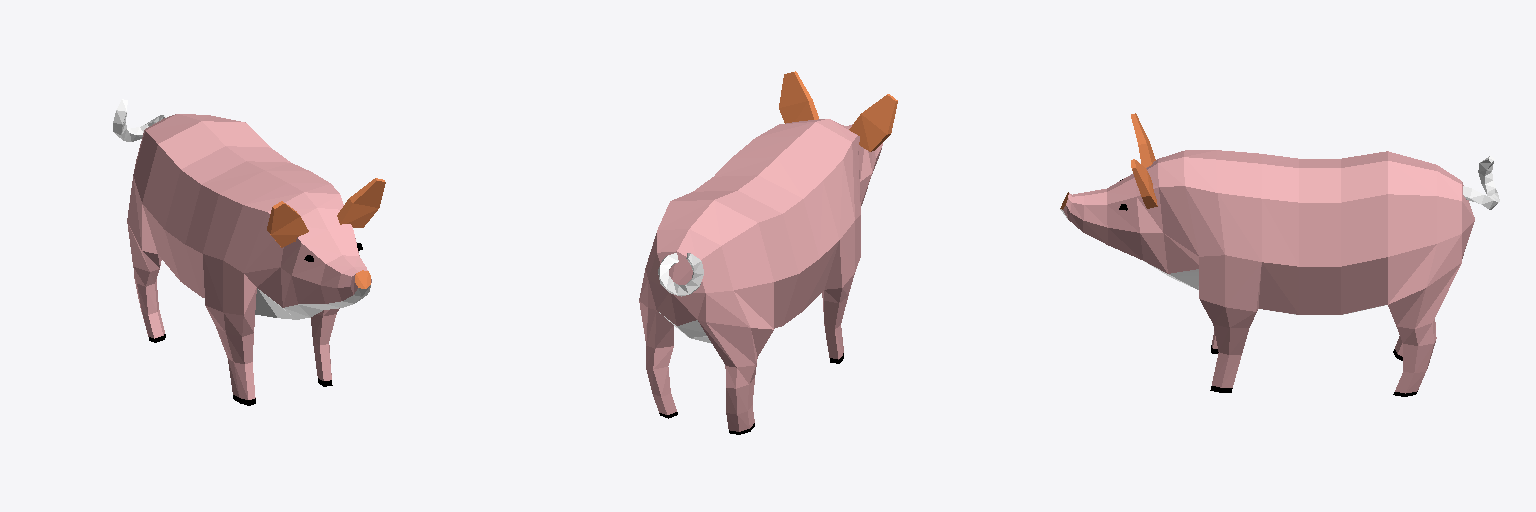
The picture shows the model from 3 angles: view 1: azimuth 30°, elevation 25°; view 2: azimuth 150°, elevation 25°; view 3: azimuth 270°, elevation 25°; orthographic projection.
Parts seen in each view (by area): view 1: Mesh_Pig; view 2: Mesh_Pig; view 3: Mesh_Pig.
Boxes of the visible parts, box(x1,y1,x2,y2) form: Mesh_Pig: box(113, 99, 385, 405); Mesh_Pig: box(639, 71, 897, 434); Mesh_Pig: box(1060, 113, 1499, 396).
Size of the model in its own units: 53.81 by 98.57 by 164.
1 materials, 1 textured.